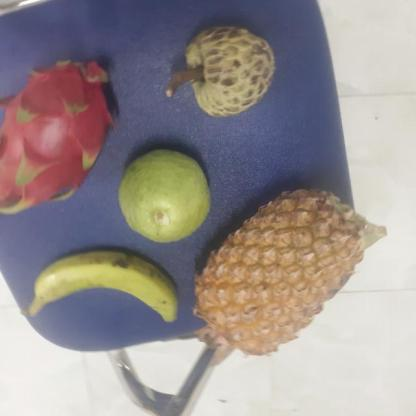annona: (177, 25, 281, 116)
banana: (32, 246, 186, 344)
guava: (118, 147, 214, 243)
pineapple: (198, 186, 369, 350)
pitaya: (0, 56, 119, 206)
